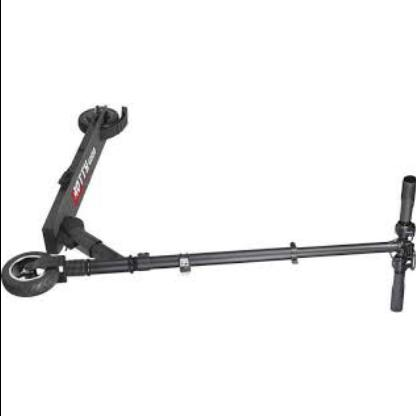bike: (2, 103, 415, 298)
